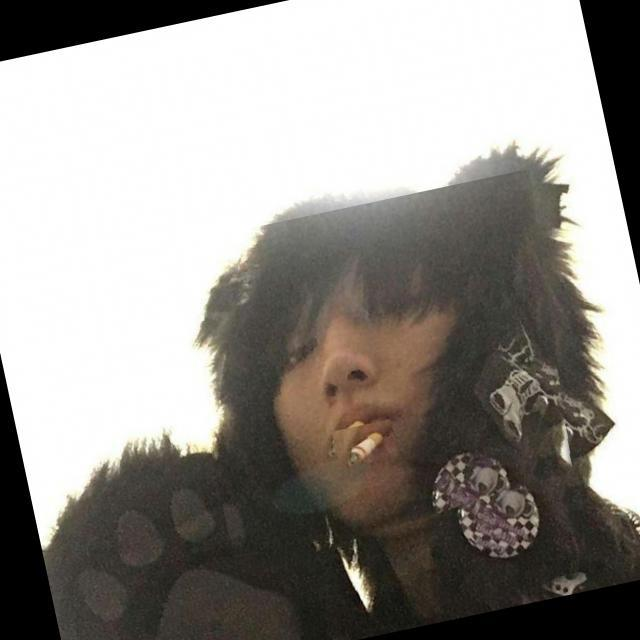cigarette: (332, 418, 398, 469)
